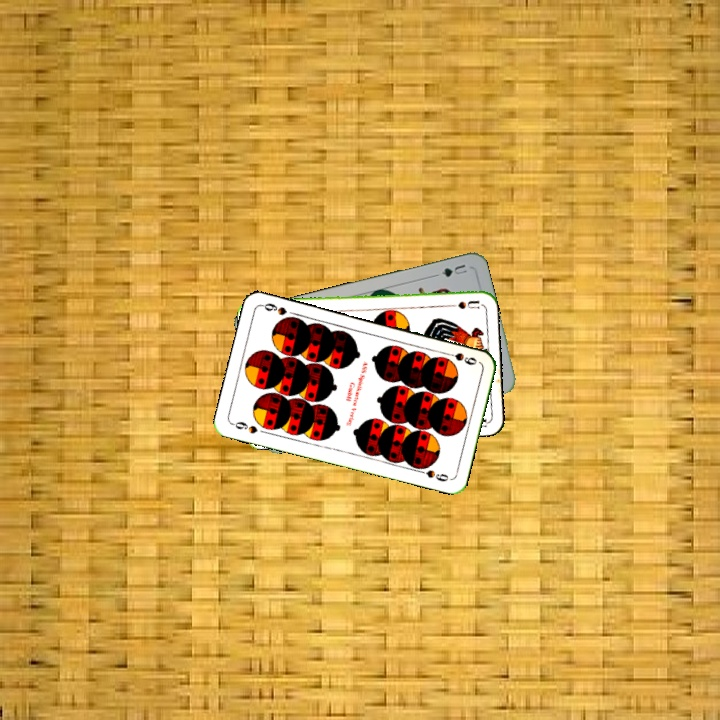GU: (431, 260, 470, 280)
S9: (441, 348, 479, 368), (228, 417, 260, 436)
SU: (440, 296, 481, 311)
